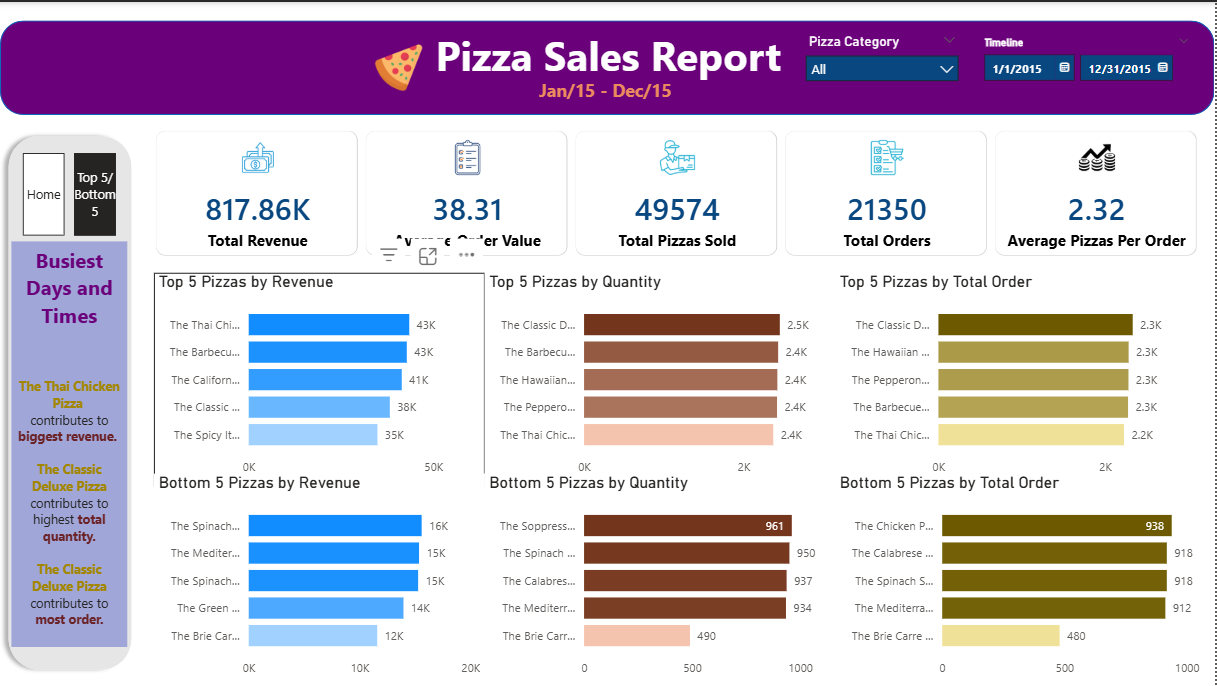

This screenshot's page, from the dashboard's own definition file:
{"tool":"powerbi","page":{"name":"Top 5/ Bottom 5","canvas":[1280,720],"ordinal":1},"visuals":[{"type":"cardVisual","fields":{"Data":["pizza_sales.Total Revenue","pizza_sales.Average Order Value","pizza_sales.Total Pizzas Sold","pizza_sales.Total Orders","pizza_sales.Average Pizzas Per Order"]},"box":[147.7,118.5,1131.9,166.6],"z":0},{"type":"shape","box":[0,18.9,1279.6,99.6],"z":1000},{"type":"textbox","box":[92.7,20.6,1095.8,97.9],"z":2000},{"type":"textbox","box":[563.4,75.6,156.3,39.5],"z":3000},{"type":"image","box":[393.3,42.9,53.2,51.5],"z":4000},{"type":"shape","box":[0,132.3,147.7,580.5],"z":5000},{"type":"slicer","fields":{"Values":["pizza_sales.pizza_category"]},"box":[839.9,29.2,180.3,67],"z":6000},{"type":"slicer","fields":{"Values":["pizza_sales.order_date"]},"box":[1023.7,30.9,240.5,79],"z":7000},{"type":"textbox","box":[12,252.5,121.9,427.7],"z":8000},{"type":"barChart","title":"Top 5 Pizzas by Revenue","fields":{"Y":["pizza_sales.Total Revenue"],"Category":["pizza_sales.pizza_name"]},"box":[161.4,285.1,348.7,223.3],"z":9000},{"type":"barChart","title":"Top 5 Pizzas by Quantity","fields":{"Y":["pizza_sales.Total Pizzas Sold"],"Category":["pizza_sales.pizza_name"]},"box":[510.1,285.1,369.3,223.3],"z":10000},{"type":"barChart","title":"Top 5 Pizzas by Total Order","fields":{"Y":["pizza_sales.Total Orders"],"Category":["pizza_sales.pizza_name"]},"box":[879.4,285.1,384.7,223.3],"z":11000},{"type":"barChart","title":"Bottom 5 Pizzas by Revenue","fields":{"Y":["pizza_sales.Total Revenue"],"Category":["pizza_sales.pizza_name"]},"box":[161.4,496.4,348.7,223.3],"z":12000},{"type":"barChart","title":"Bottom 5 Pizzas by Quantity","fields":{"Y":["pizza_sales.Total Pizzas Sold"],"Category":["pizza_sales.pizza_name"]},"box":[510.1,496.4,369.3,223.3],"z":13000},{"type":"barChart","title":"Bottom 5 Pizzas by Total Order","fields":{"Y":["pizza_sales.Total Orders"],"Category":["pizza_sales.pizza_name"]},"box":[879.4,496.4,400.2,223.3],"z":13001},{"type":"pageNavigator","box":[24,159.7,99.6,87.6],"z":13002}]}

Visuals, with their boxes in screenshot pixels (x1, y1, x2, y2), scaled from the page's 1280x720 canvas onto the 1217x686 screenshot:
cardVisual - pizza_sales.Total Revenue x pizza_sales.Average Order Value: region(140, 113, 1216, 272)
shape: region(0, 18, 1216, 113)
textbox: region(88, 20, 1130, 113)
textbox: region(536, 72, 684, 110)
image: region(374, 41, 425, 90)
shape: region(0, 126, 140, 679)
slicer - pizza_sales.pizza_category: region(799, 28, 970, 92)
slicer - pizza_sales.order_date: region(973, 29, 1202, 105)
textbox: region(11, 241, 127, 648)
"Top 5 Pizzas by Revenue" barChart: region(153, 272, 485, 484)
"Top 5 Pizzas by Quantity" barChart: region(485, 272, 836, 484)
"Top 5 Pizzas by Total Order" barChart: region(836, 272, 1202, 484)
"Bottom 5 Pizzas by Revenue" barChart: region(153, 473, 485, 685)
"Bottom 5 Pizzas by Quantity" barChart: region(485, 473, 836, 685)
"Bottom 5 Pizzas by Total Order" barChart: region(836, 473, 1216, 685)
pageNavigator: region(23, 152, 118, 236)
